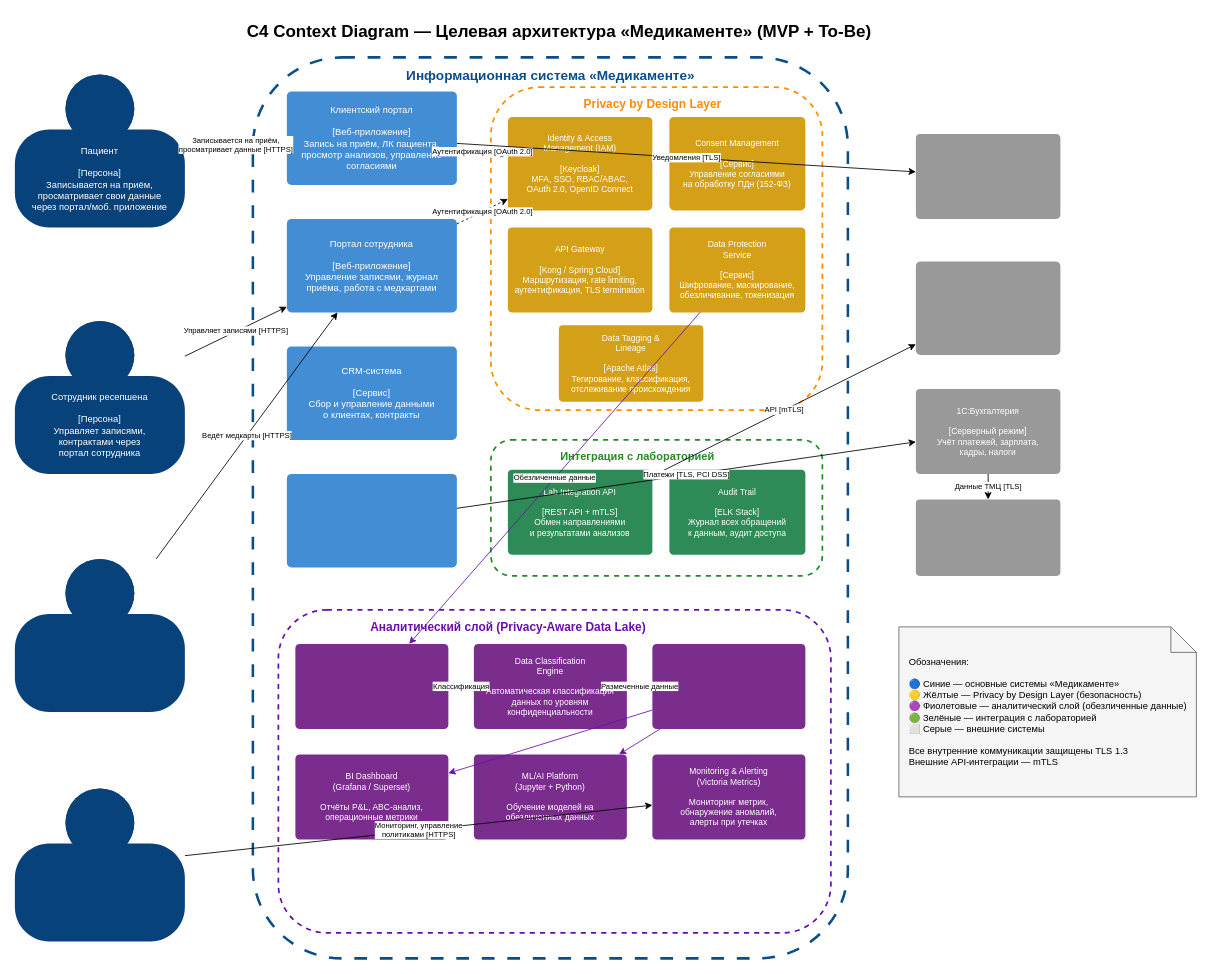
Some shapes in this 1211 by 974 pixel diagram are drawn without their labels. The box of each missing label's shape, as (x1, y1, x2, y2) in pixels:
1С:Торговля и склад [Серверный режим] Учёт ТМЦ: (915, 499, 1060, 575)
Data Ingestion (Apache NiFi) ETL с автоматическим тегированием и классификацией: (295, 643, 448, 728)
Data Warehouse (ClickHouse) Обезличенные и агрегированные данные для BI/ML/AI: (652, 643, 805, 728)
Notification Service [Внешний] SMS, Push, голосовой робот: (915, 133, 1060, 218)
Администратор / DPO [Персона] Управляет политиками безопасности, мониторинг: (14, 788, 184, 941)
Лаборатория анализов [Внешняя система] Приём направлений, отправка результатов: (915, 261, 1060, 354)
Медицинский специалист [Персона] Ведёт медкарты, назначает анализы и лечение: (14, 558, 184, 711)
Платёжный шлюз [Сервис] Обработка платежей, токенизация данных карт: (286, 473, 456, 567)
